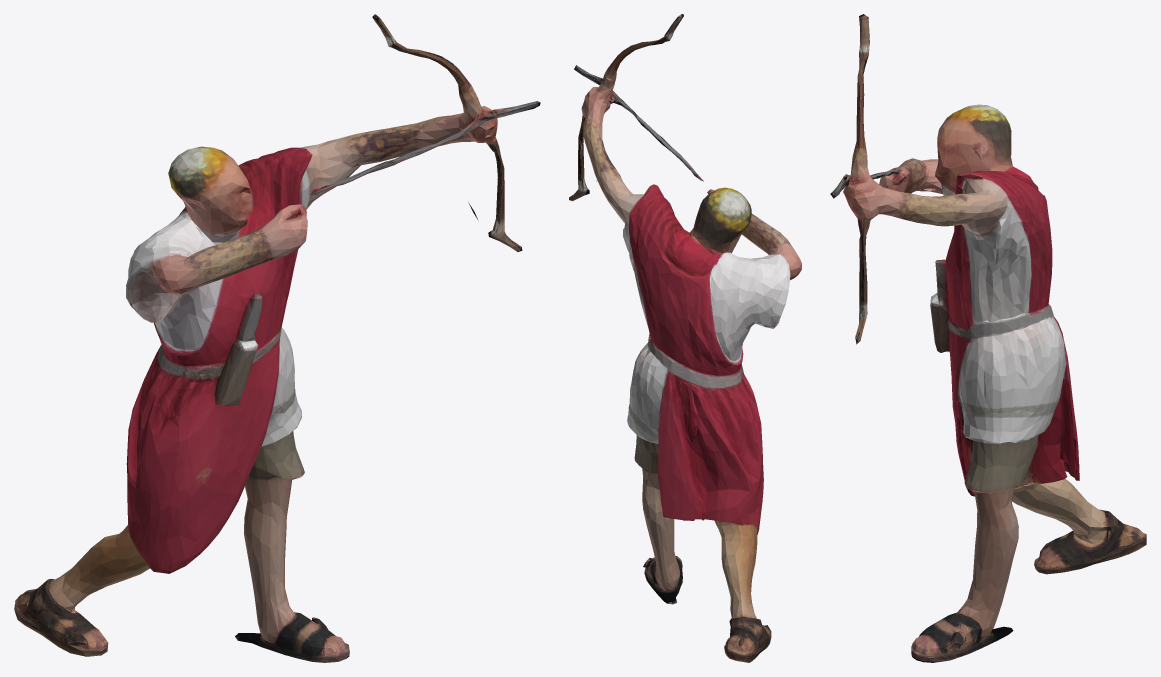
Rendered from greeks.glb.
The picture shows the model from 3 angles, left to right: view 1: azimuth 30°, elevation 25°; view 2: azimuth 150°, elevation 25°; view 3: azimuth 270°, elevation 25°; orthographic projection. The views are drawn at different scales.
Parts seen in each view (by area): view 1: world; view 2: world; view 3: world.
Part boxes in pixels (x1,y1,x2,y2): world: (14, 14, 540, 662); world: (569, 14, 801, 662); world: (830, 14, 1146, 662).
Size of the model in its own units: 0.591 by 1 by 0.4446.
1 material, 1 textured.
